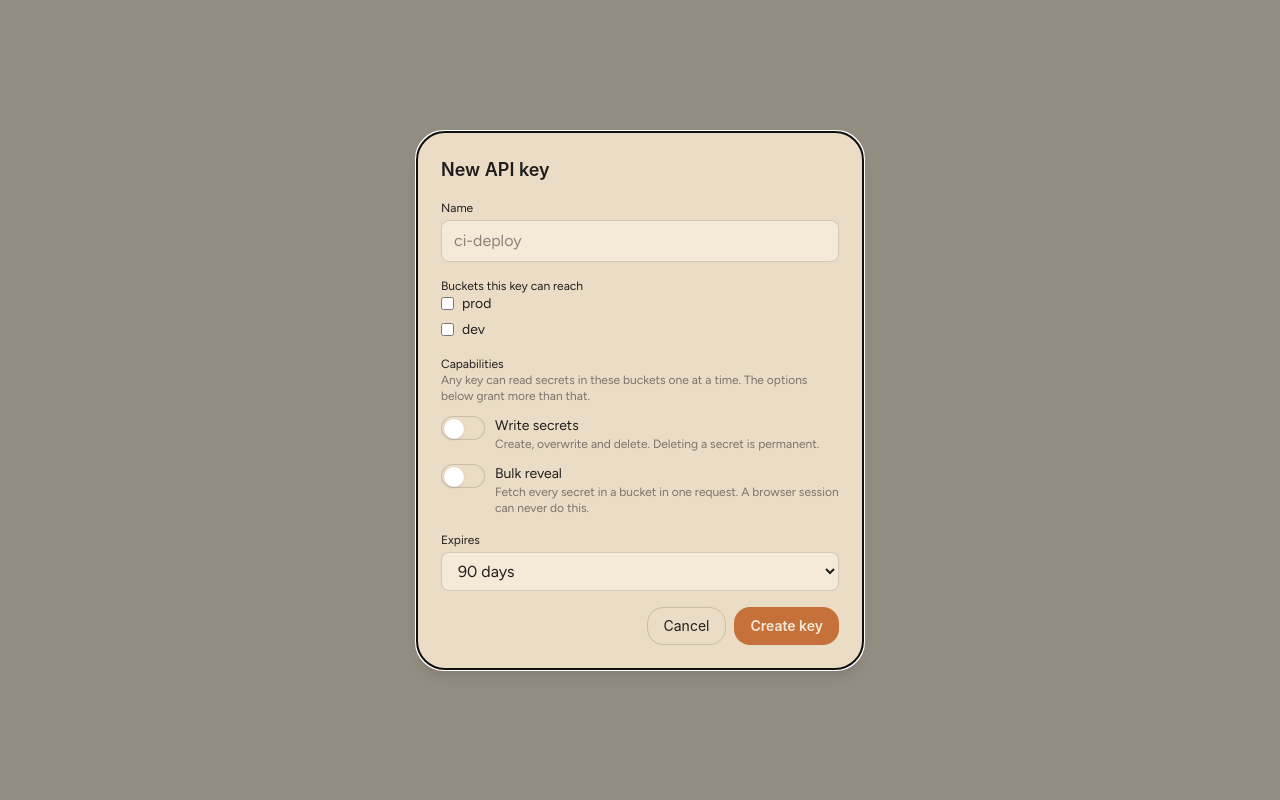
CreateKeyFlow › refuses to submit with no bucket chosen, without reaching the network
The image size is (1280, 800).
Type "no-buckets" into the field labelled "Name".
click(640, 240); type("no-buckets")  # box x1=441 y1=220 x2=839 y2=262
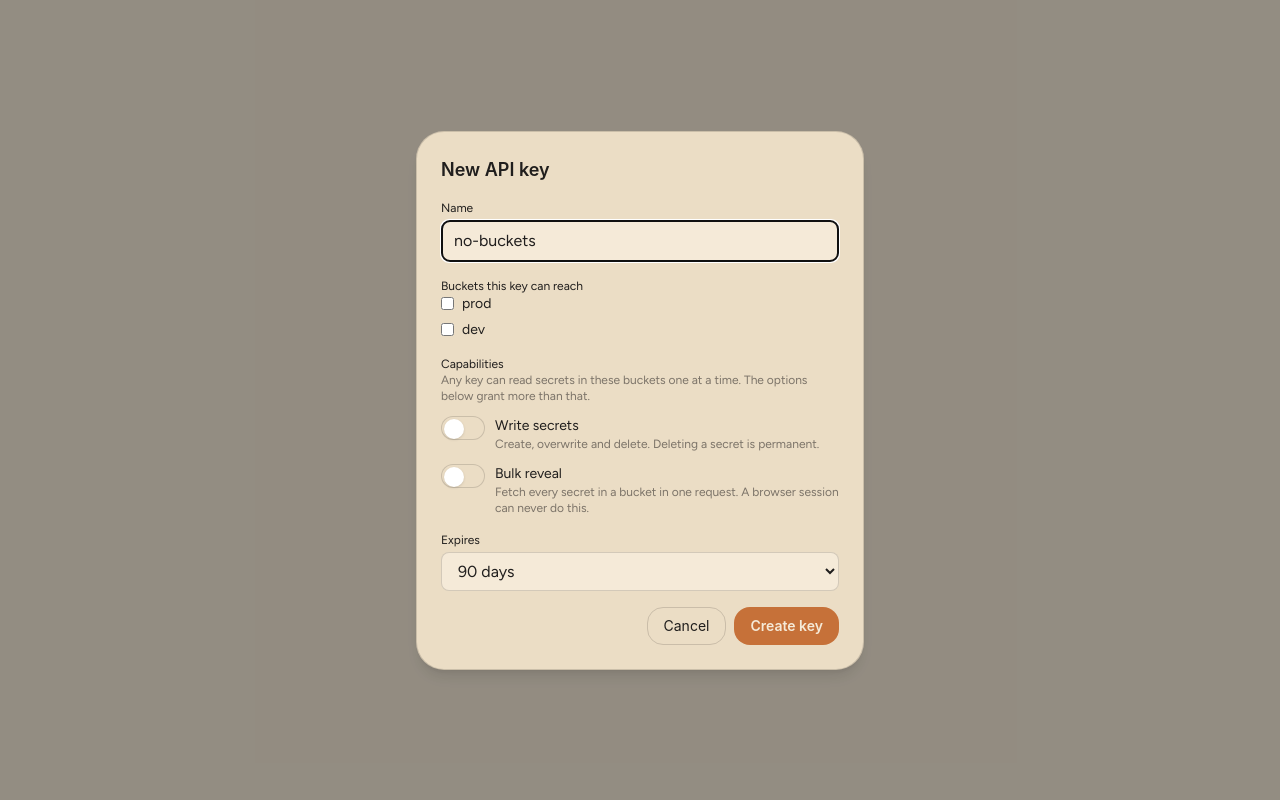
Click the button "Create key".
click(787, 626)  # box x1=734 y1=606 x2=839 y2=644
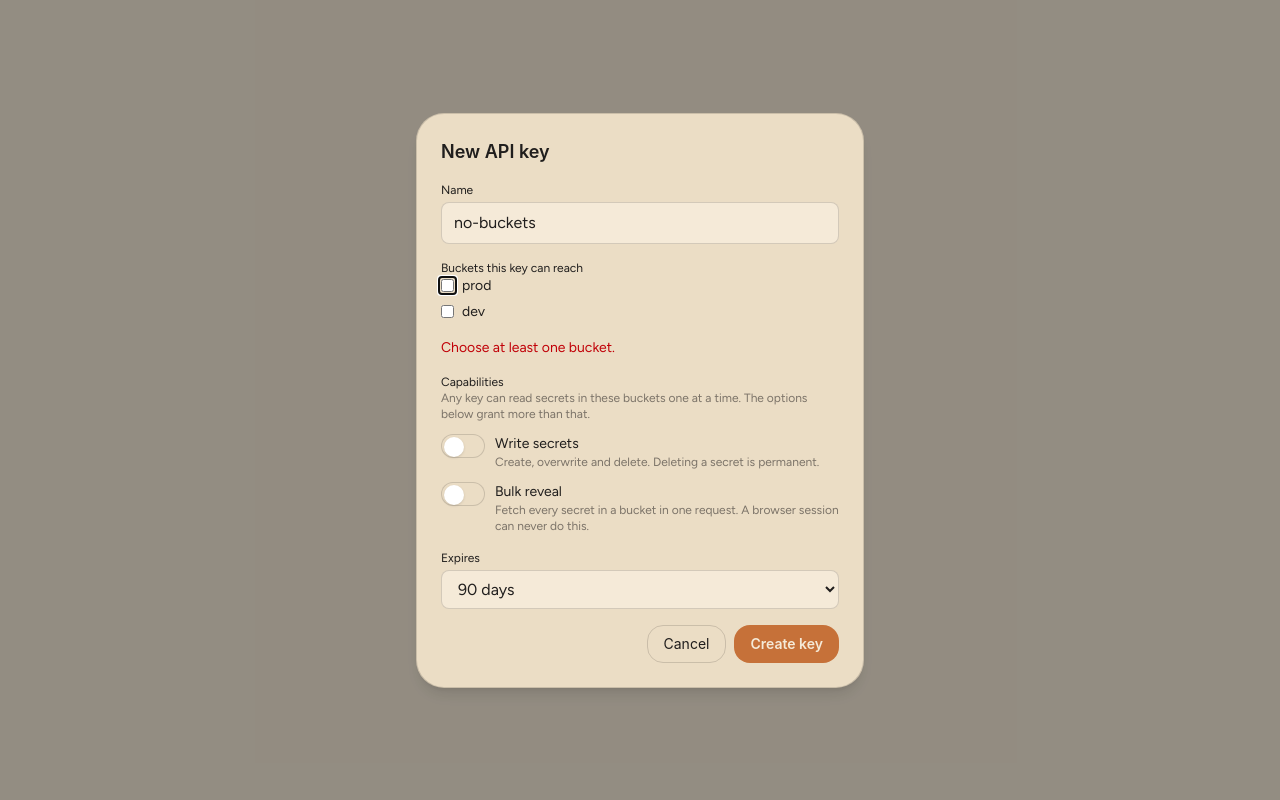
Expected: the text "Choose at least one bucket." is shown, x1=441 y1=338 x2=615 y2=356
